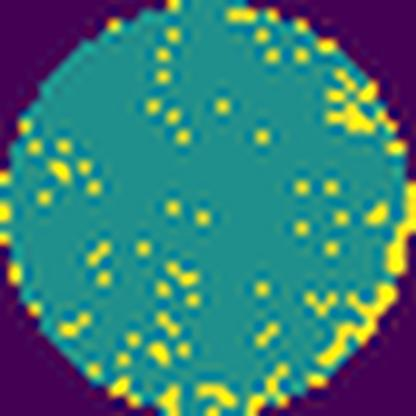Edge-Loc: (312, 276, 406, 361), (379, 173, 415, 279)
